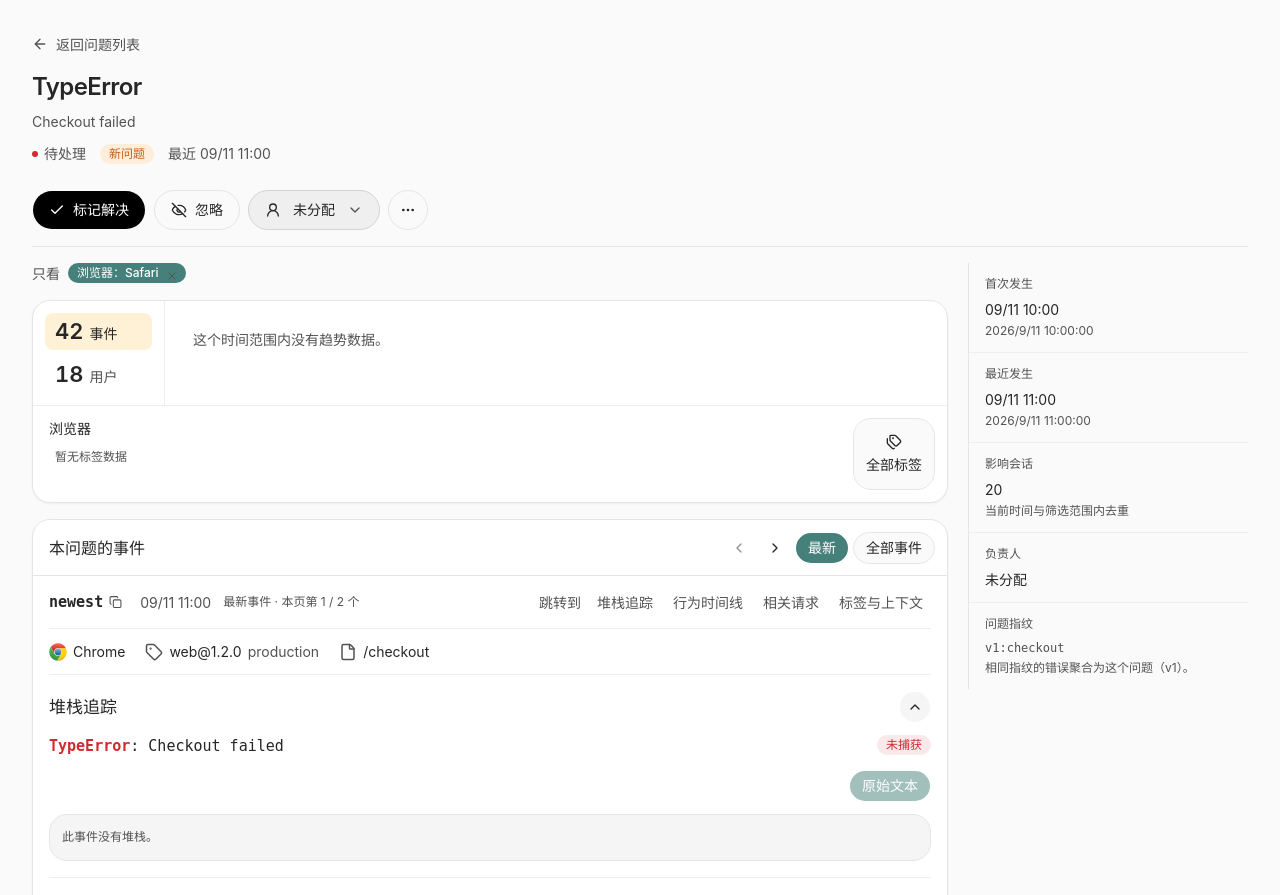
Test case: issue investigation context › steps through events from the event navigation bar
The image size is (1280, 895).
Expected: the text "最新事件 · 本页第 1 / 2 个" is shown, [223,593,360,611]
Expected: the button named "较新的事件" is disabled, [723,532,755,564]
Click the button named "较早的事件" at (775, 548), box [759,532,791,564]
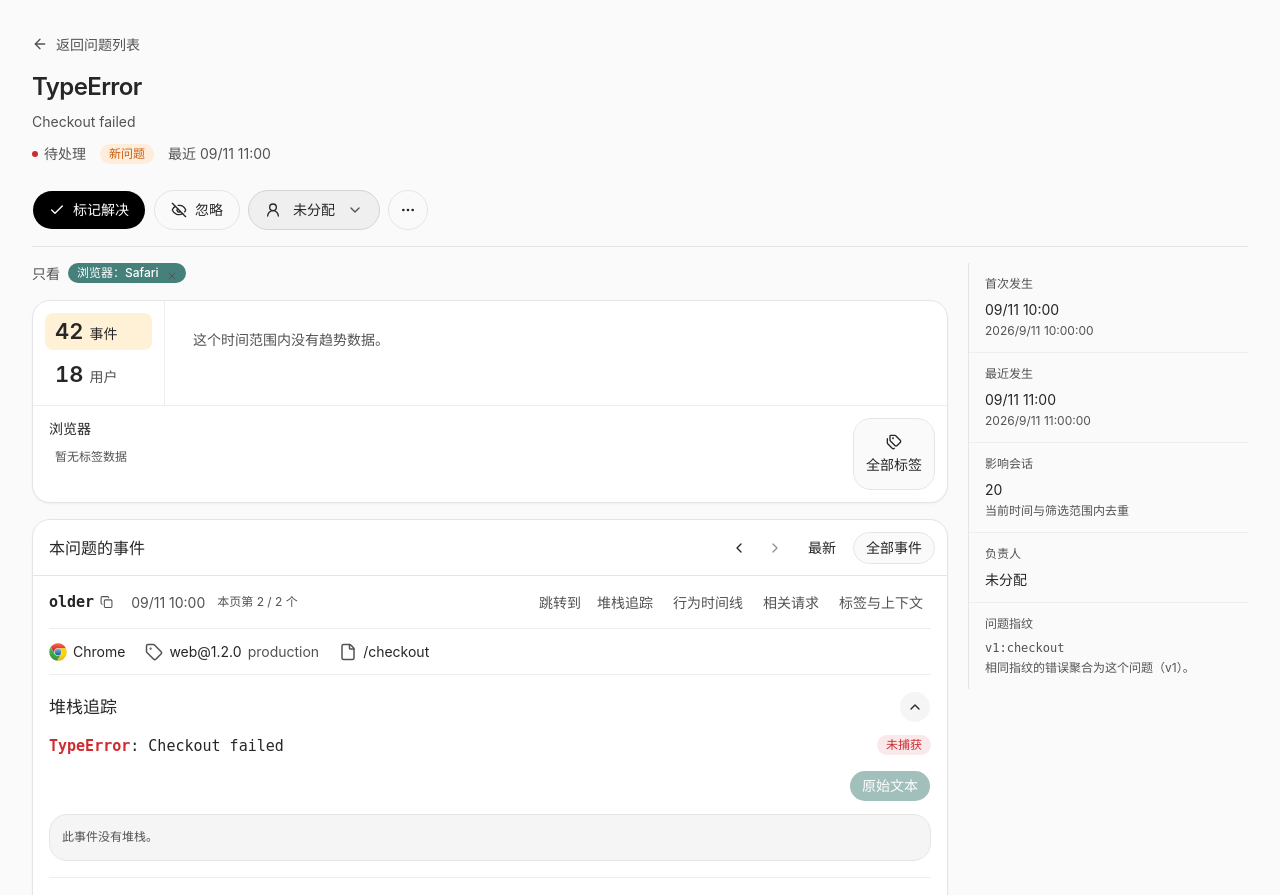
Result: the text "本页第 2 / 2 个" is shown at [217,593,298,611]
Result: the text "older" is shown at [49,591,94,614]
Click the button "最新" at (822, 548), box [795,532,849,564]
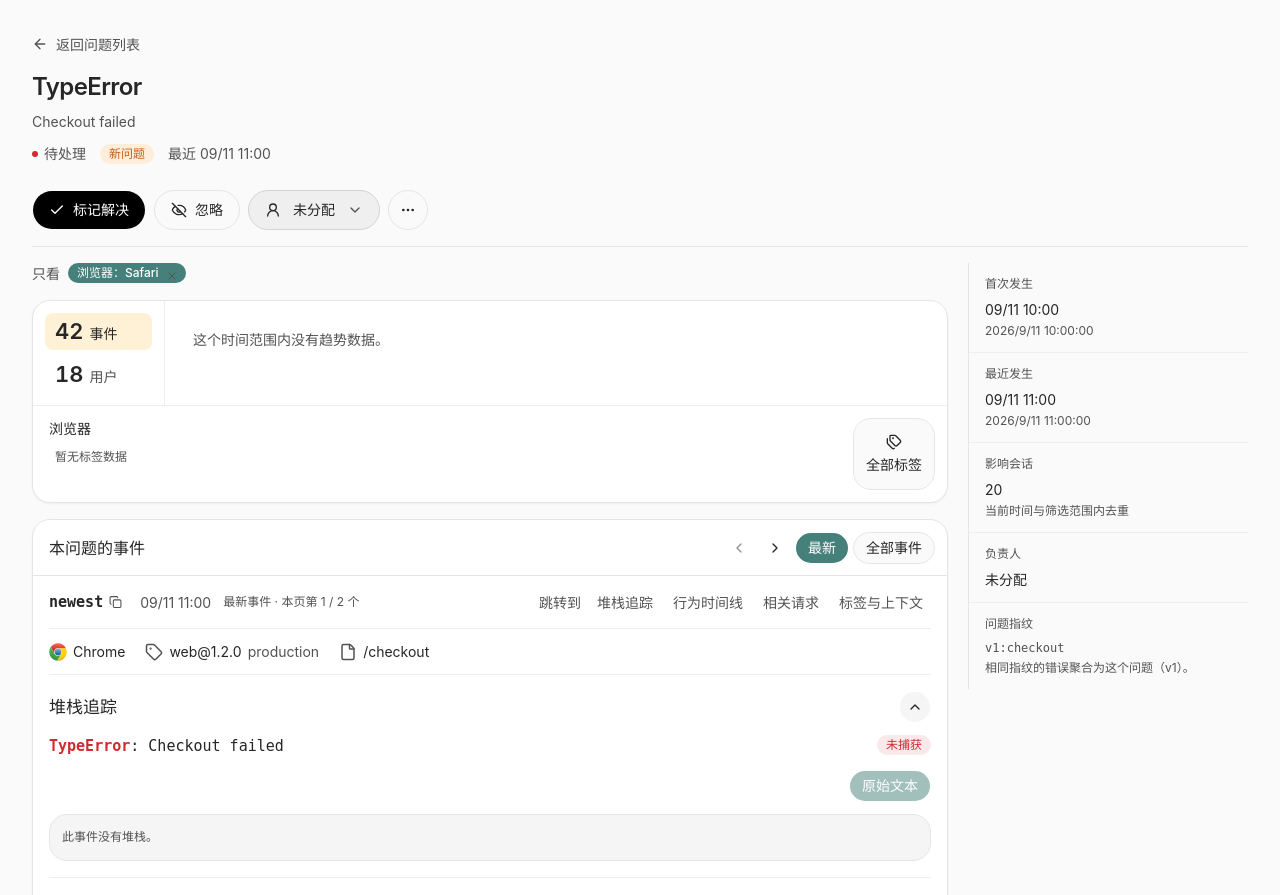
Expected: the heading "堆栈追踪" is shown, [49,695,117,720]
Result: the text "最新事件 · 本页第 1 / 2 个" is shown at [223,593,360,611]
